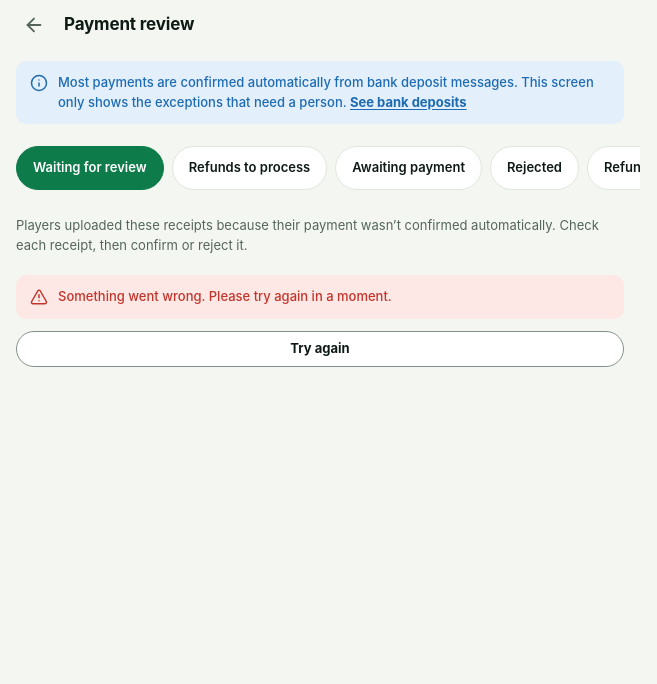
Test: payment review: the queue › explains a failure to load and tries again on request
Expected: the message "Something went wrong. Please try again in a moment." is shown, [16, 275, 624, 318]
Click the button "Try again".
click(320, 348)  # box [16, 330, 624, 366]
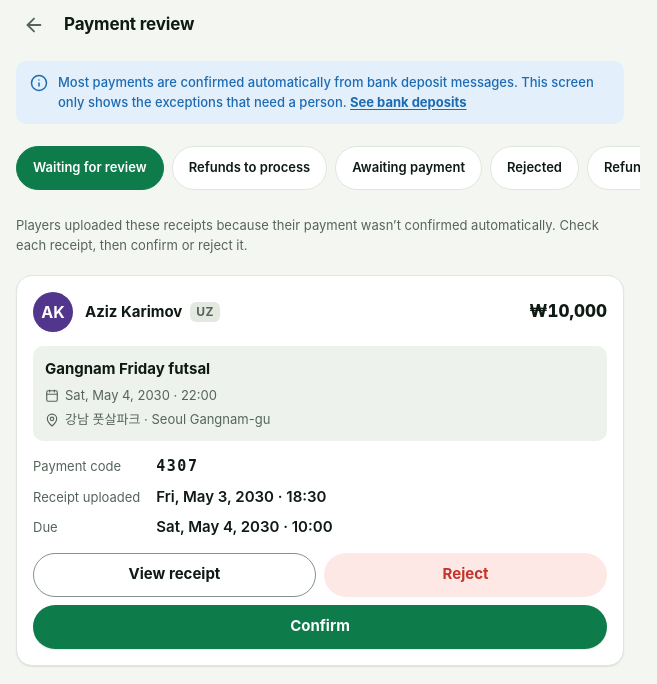
Now the element "Aziz Karimov" is shown, box [16, 275, 624, 666]
